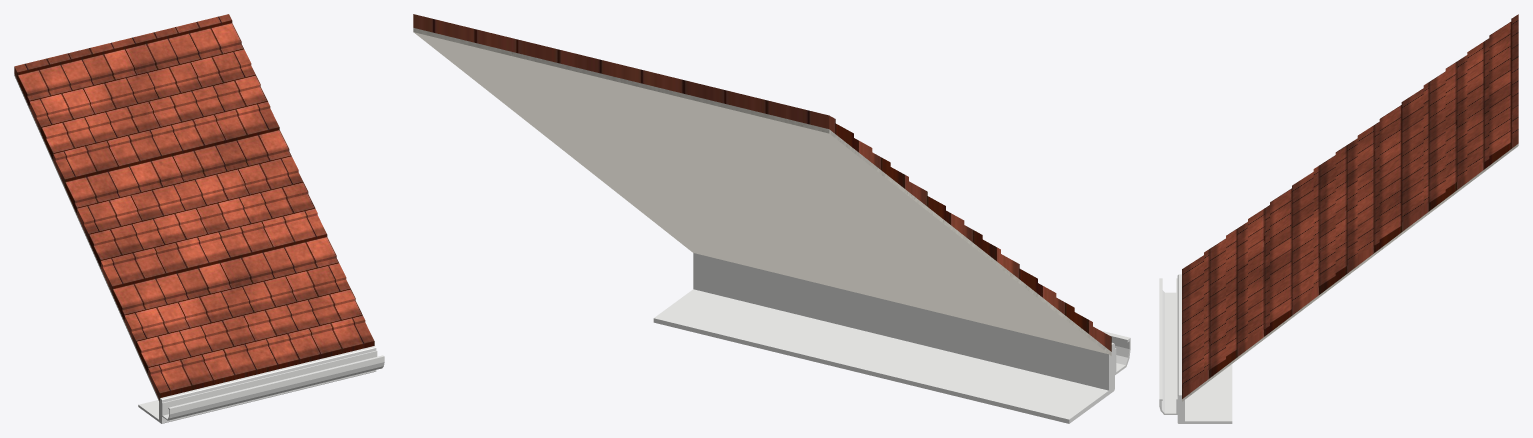
The model's file is groof_eave.glb.
3 renders of one model, left to right at view 1: azimuth 30°, elevation 25°; view 2: azimuth 150°, elevation 25°; view 3: azimuth 270°, elevation 25°, orthographic. The views are drawn at different scales.
Parts seen in each view (by area): view 1: groof_eave_shingles, groof_eave_gutter, groof_eave_trim, groof_eave_plaster; view 2: groof_eave_plaster, groof_eave_trim, groof_eave_shingles; view 3: groof_eave_shingles, groof_eave_trim, groof_eave_gutter, groof_eave_plaster.
Part boxes in pixels (x1,y1,x2,y2): groof_eave_shingles: (14,14,374,400); groof_eave_gutter: (162,350,384,420); groof_eave_trim: (138,346,376,423); groof_eave_plaster: (14,74,159,402); groof_eave_plaster: (413,28,1111,355); groof_eave_trim: (653,253,1114,423); groof_eave_shingles: (413,14,1111,351); groof_eave_shingles: (1182,14,1518,398); groof_eave_trim: (1177,274,1232,423); groof_eave_gutter: (1159,278,1177,414); groof_eave_plaster: (1182,143,1518,401).
Size of the model in its own units: 2 by 2.23 by 2.51.
4 materials, 2 textured.
